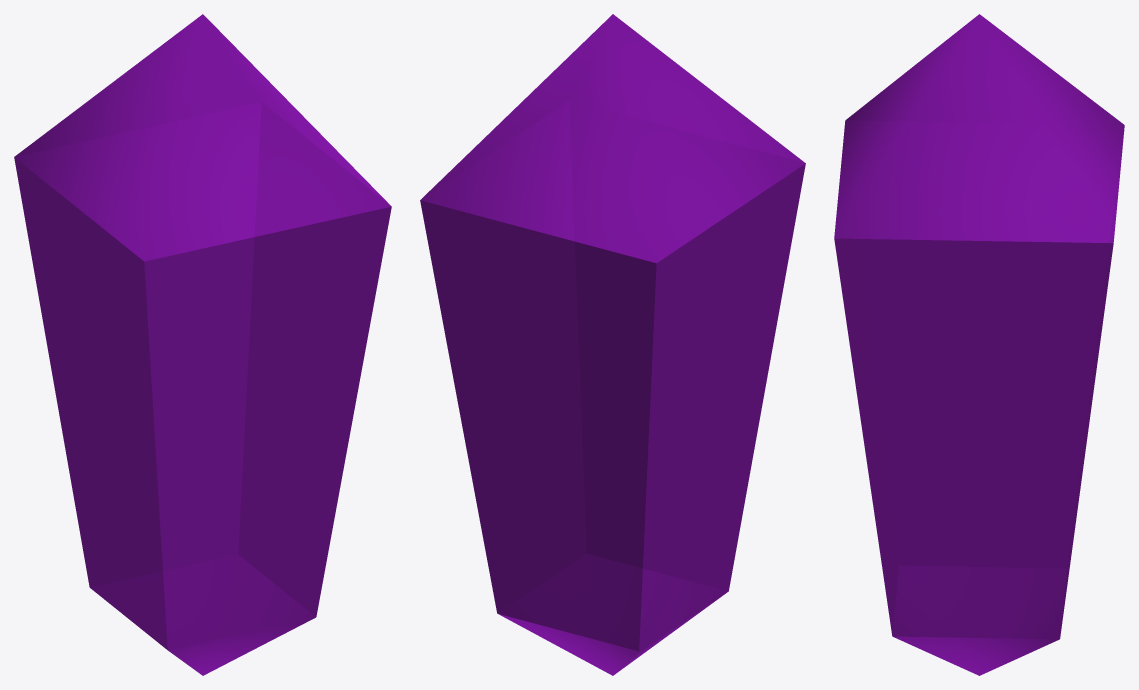
File: Floating_jewel.FBX
3 renders of one model, left to right at view 1: azimuth 30°, elevation 25°; view 2: azimuth 150°, elevation 25°; view 3: azimuth 270°, elevation 25°, orthographic.
Parts seen in each view (by area): view 1: Box001; view 2: Box001; view 3: Box001.
Boxes of the visible parts, x1=… form: Box001: x1=14, y1=14, x2=391, y2=675; Box001: x1=420, y1=14, x2=805, y2=675; Box001: x1=834, y1=14, x2=1124, y2=675.
Bounding box in the file's own units: 0.2443 × 0.6142 × 0.2443.
